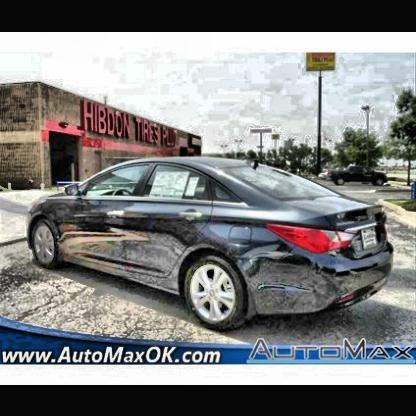Hyundai Sonata Sedan 2012: (30, 158, 394, 333)
